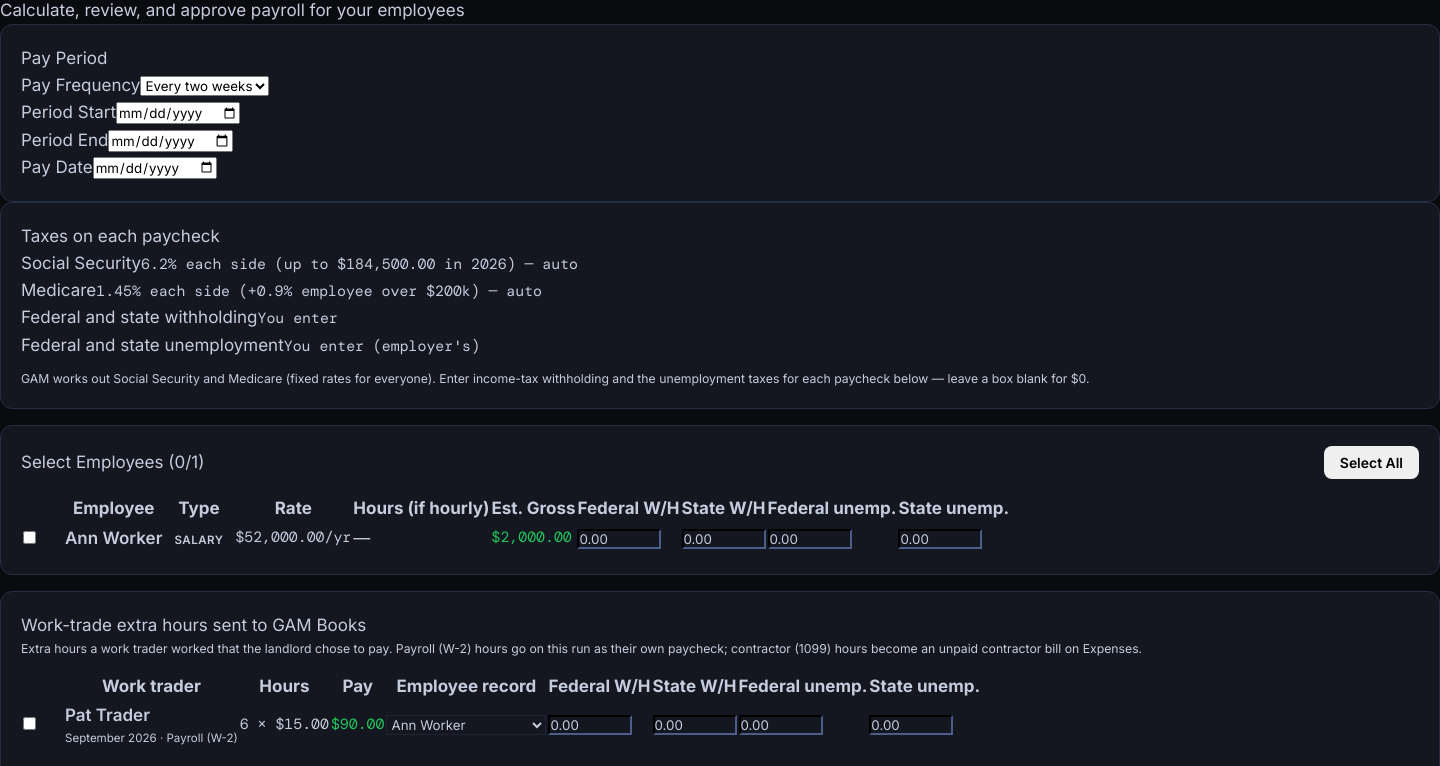
Test: Run Payroll › an employee with no place yet is named, and the run waits until it is set on the Employees page (10/14, Nic)
Click the checkbox named "Pay Ann Worker" at (30, 537), box x1=23 y1=531 x2=36 y2=544
(page scrolled)
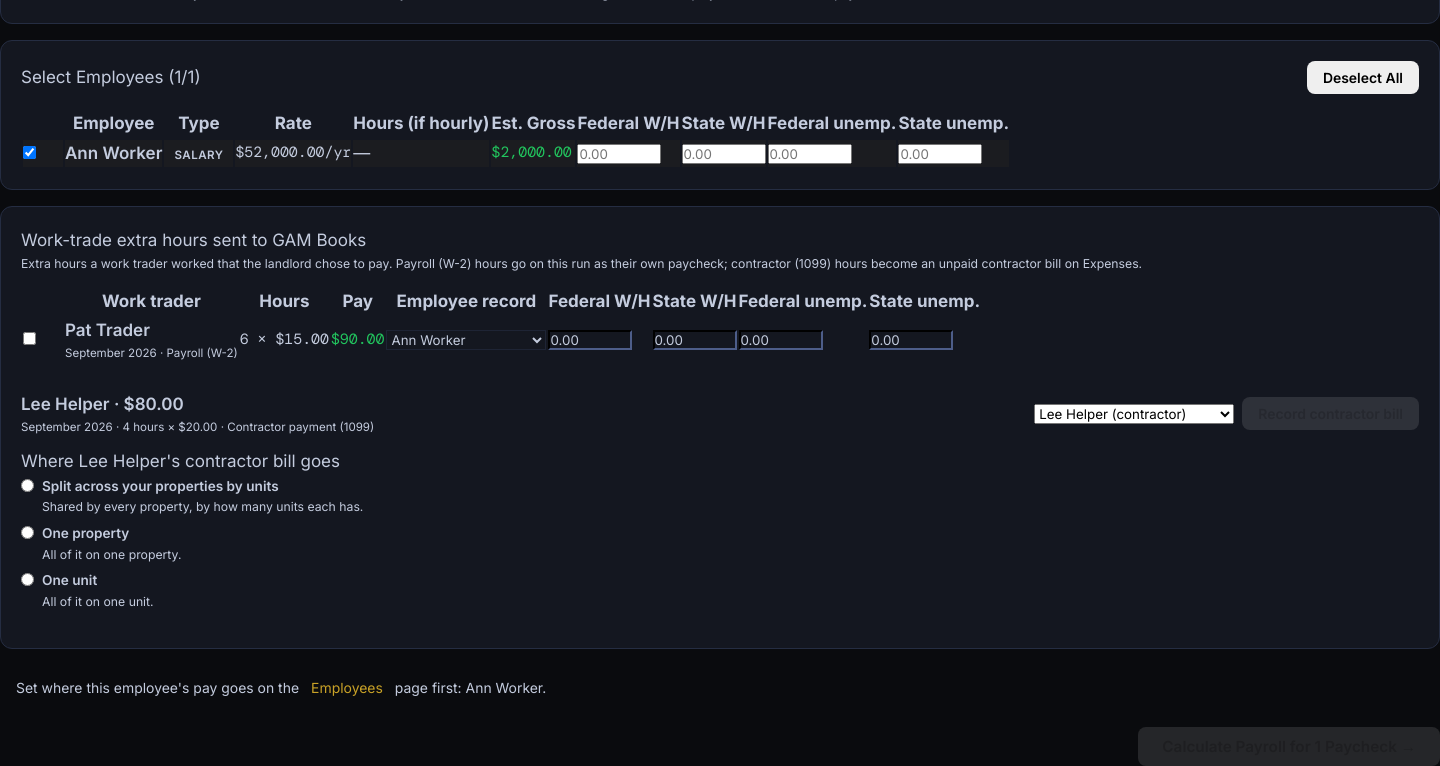
Expected: the submit button is disabled, x1=1138 y1=727 x2=1439 y2=765
Expected: the text "Set where this employee's pay goes on the Employees page first: Ann Worker." is shown, x1=16 y1=678 x2=546 y2=696
